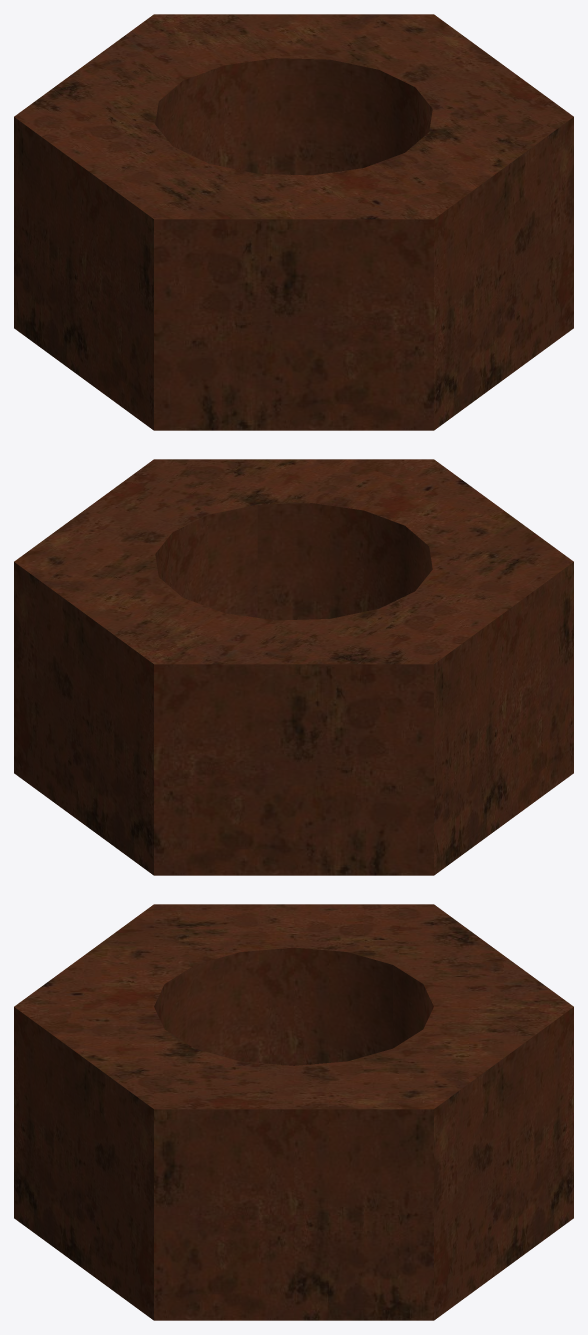
Rendered from nut_1.glb.
The picture shows the model from 3 angles, top to bottom: view 1: azimuth 30°, elevation 25°; view 2: azimuth 150°, elevation 25°; view 3: azimuth 270°, elevation 25°; orthographic projection.
Parts seen in each view (by area): view 1: nut_1; view 2: nut_1; view 3: nut_1.
Boxes of the visible parts, x1,y1,x2,y2 form: nut_1: (14,14,573,430); nut_1: (14,459,573,875); nut_1: (14,904,573,1320).
Size of the model in its own units: 0.0208 by 0.01 by 0.024.
Materials: 1 (1 with a texture image).
